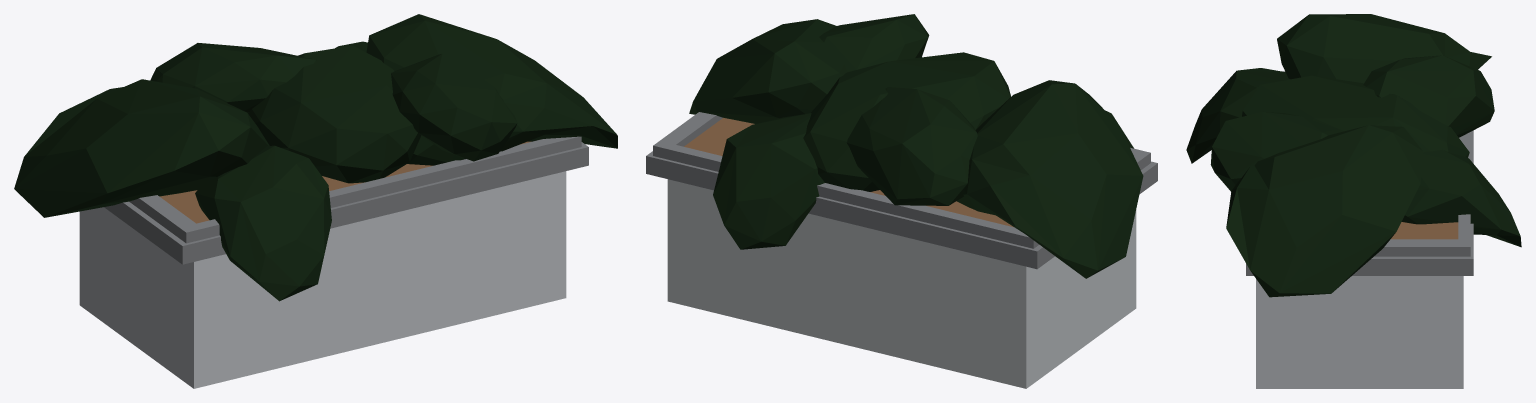
File: SM_platform_bushes_01.fbx
3 views of the same model, side by side, from view 1: azimuth 30°, elevation 25°; view 2: azimuth 150°, elevation 25°; view 3: azimuth 270°, elevation 25° (orthographic). The views are drawn at different scales.
Visible parts, largest first — view 1: Box238; view 2: Box238; view 3: Box238.
Boxes of the visible parts, bbox=[...] form: Box238: bbox=[14, 14, 617, 388]; Box238: bbox=[646, 14, 1157, 388]; Box238: bbox=[1186, 14, 1521, 388].
Bounding box in the file's own units: 118 × 74.36 × 55.93.
